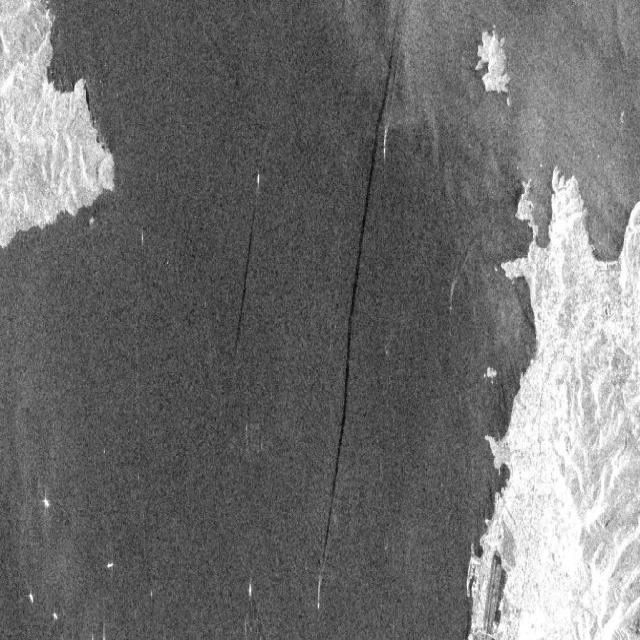oil-spill: (354, 13, 400, 276), (321, 281, 361, 573), (223, 198, 268, 362)
